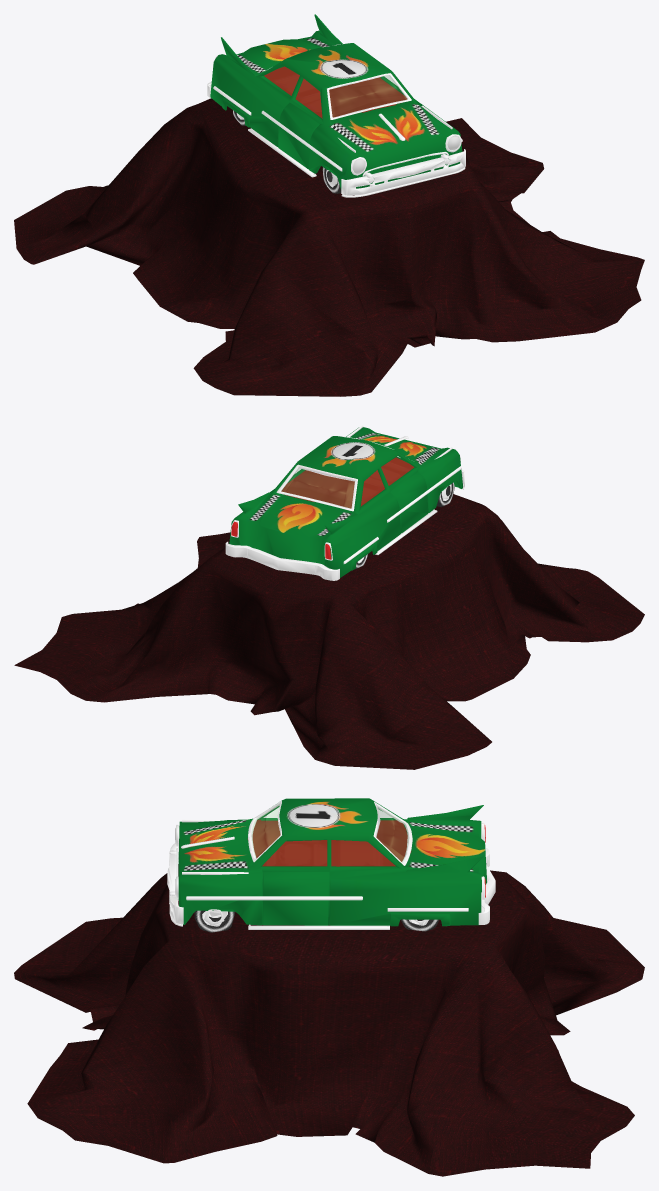
Rendered from toy_car.glb.
The picture shows the model from 3 angles, top to bottom: view 1: azimuth 30°, elevation 25°; view 2: azimuth 150°, elevation 25°; view 3: azimuth 270°, elevation 25°; orthographic projection. The views are drawn at different scales.
Parts seen in each view (by area): view 1: Fabric, ToyCar, Glass; view 2: Fabric, ToyCar, Glass; view 3: Fabric, ToyCar, Glass.
Part boxes in pixels (left/top/right/bottom): Fabric: left=14, top=98, right=644, bottom=396; ToyCar: left=207, top=14, right=465, bottom=197; Glass: left=329, top=75, right=406, bottom=116; Fabric: left=14, top=494, right=644, bottom=769; ToyCar: left=225, top=425, right=464, bottom=580; Glass: left=281, top=468, right=354, bottom=507; Fabric: left=14, top=864, right=644, bottom=1176; ToyCar: left=167, top=798, right=495, bottom=932; Glass: left=252, top=804, right=408, bottom=861.
Size of the model in its own units: 0.0734 by 0.0288 by 0.0737.
3 materials, 2 textured.
